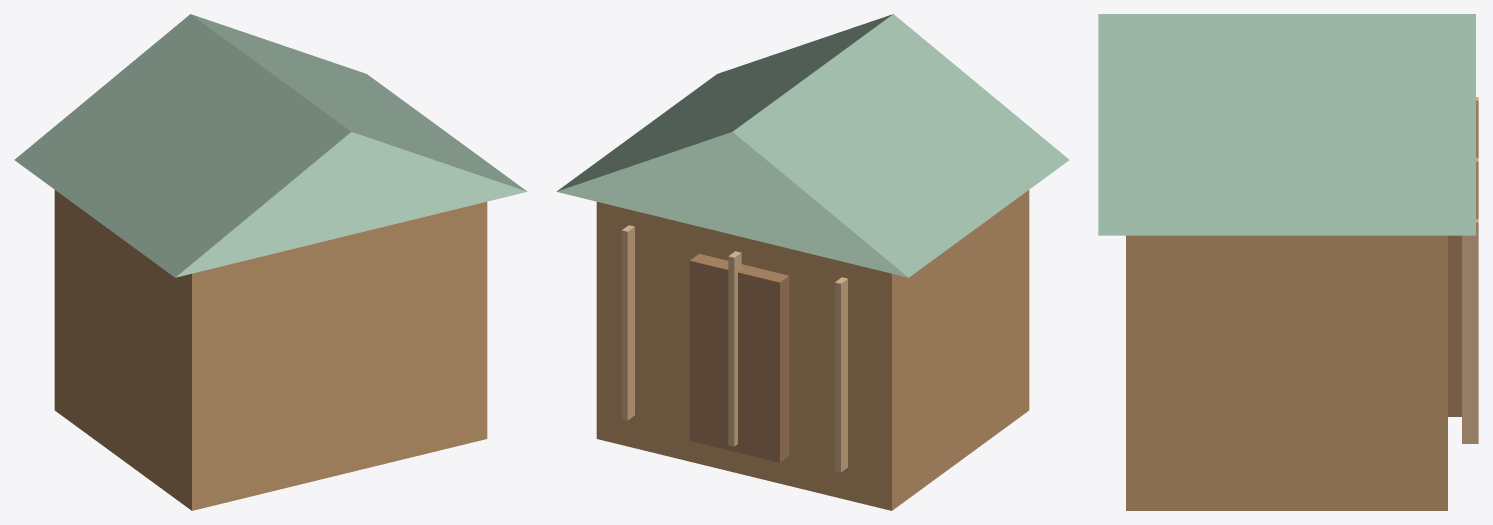
File: tool_shed.glb
The picture shows the model from 3 angles, left to right: view 1: azimuth 30°, elevation 25°; view 2: azimuth 150°, elevation 25°; view 3: azimuth 270°, elevation 25°; orthographic projection. The views are drawn at different scales.
Bounding box in the file's own units: 0.86 × 0.82 × 0.685.
